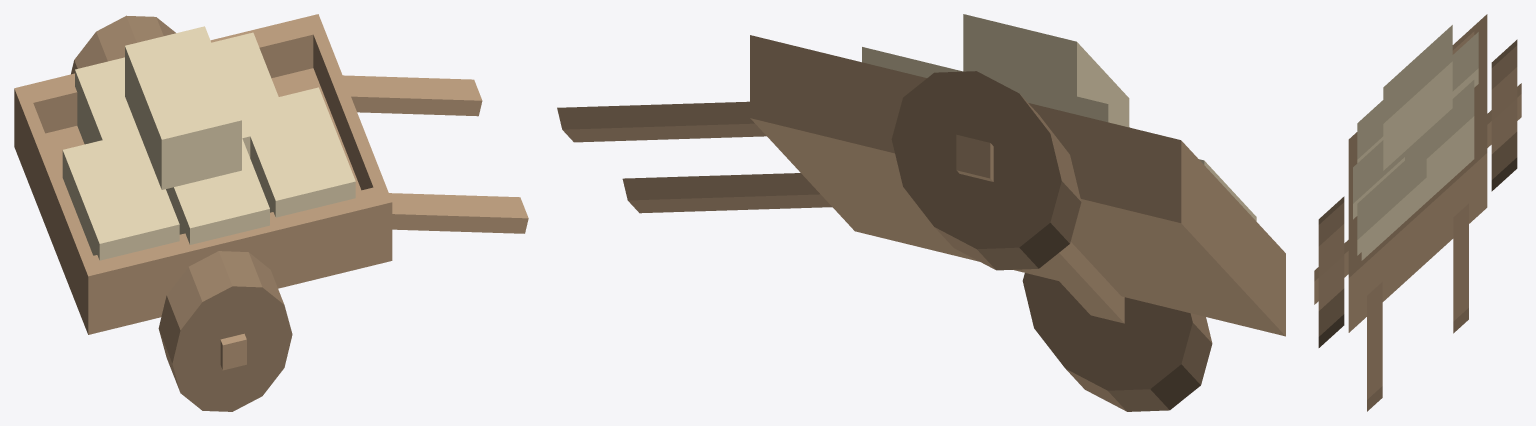
The model's file is cart.glb.
3 views of the same model, side by side, from view 1: azimuth 30°, elevation 25°; view 2: azimuth 150°, elevation 25°; view 3: azimuth 270°, elevation 25° (orthographic). The views are drawn at different scales.
Visible parts, largest first — view 1: cart; view 2: cart; view 3: cart.
Boxes of the visible parts, box(x1,y1,x2,y2) form: cart: box(14, 14, 528, 411); cart: box(557, 14, 1285, 411); cart: box(1314, 14, 1521, 411).
Bounding box in the file's own units: 112 × 77 × 48.
